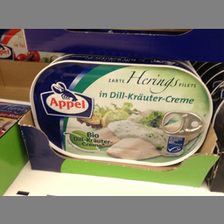fish: (29, 57, 215, 165)
